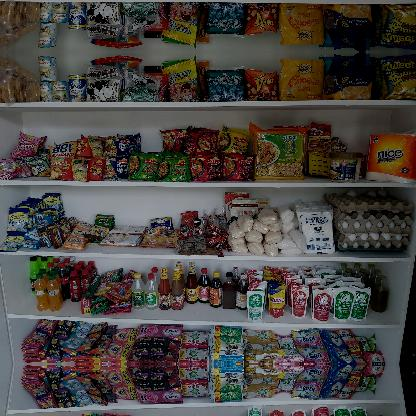Lady-s-Choice: (328, 152, 362, 182)
